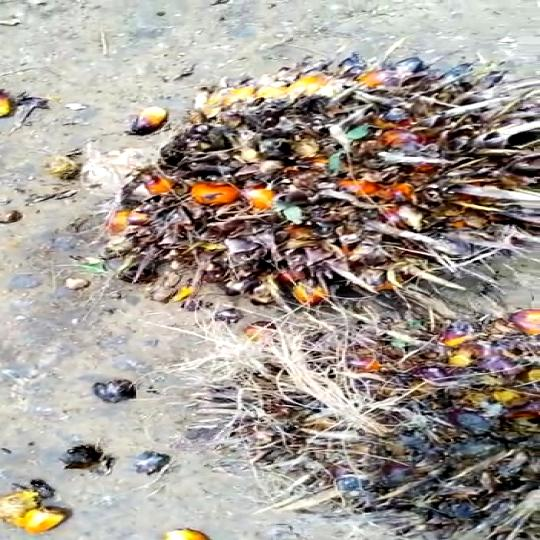terlalu masak: (81, 55, 540, 312)
